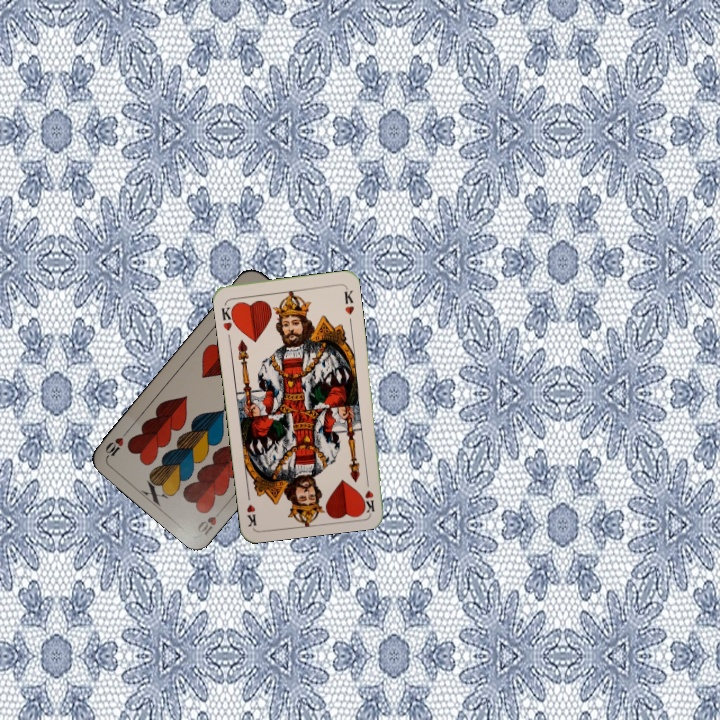H10: (193, 503, 227, 538)
HK: (361, 472, 377, 513), (218, 302, 238, 333)
